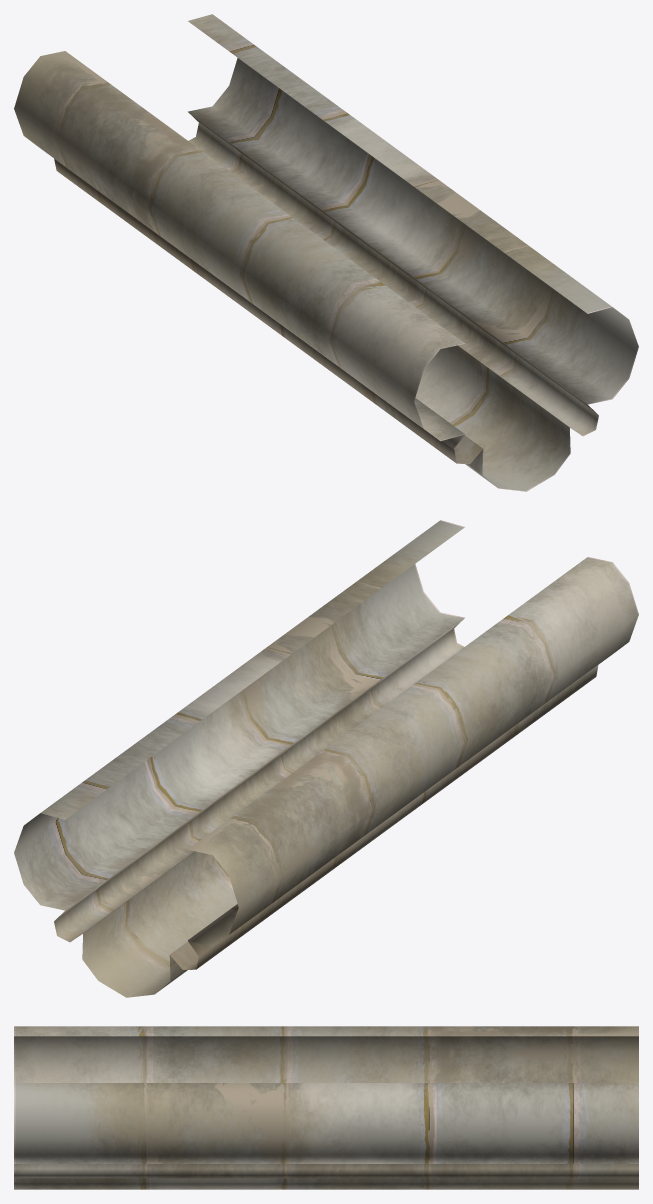
The model's file is Cath_Column_part2c.FBX.
3 renders of one model, top to bottom at view 1: azimuth 30°, elevation 25°; view 2: azimuth 150°, elevation 25°; view 3: azimuth 270°, elevation 25°, orthographic. The views are drawn at different scales.
Parts seen in each view (by area): view 1: Cath_Column_part2c; view 2: Cath_Column_part2c; view 3: Cath_Column_part2c.
Boxes of the visible parts, bbox=[...] form: Cath_Column_part2c: bbox=[14, 14, 638, 491]; Cath_Column_part2c: bbox=[14, 520, 638, 997]; Cath_Column_part2c: bbox=[14, 1026, 638, 1189].
Size of the model in its own units: 120 by 371 by 83.8.
